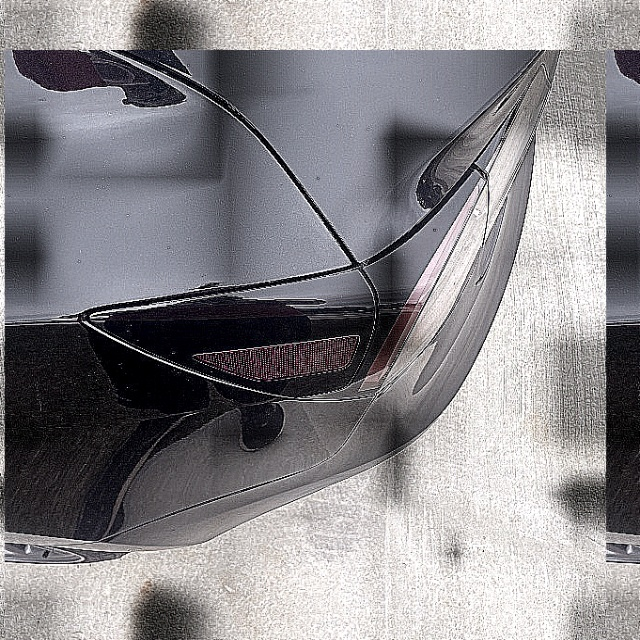reflector: (191, 335, 360, 381)
